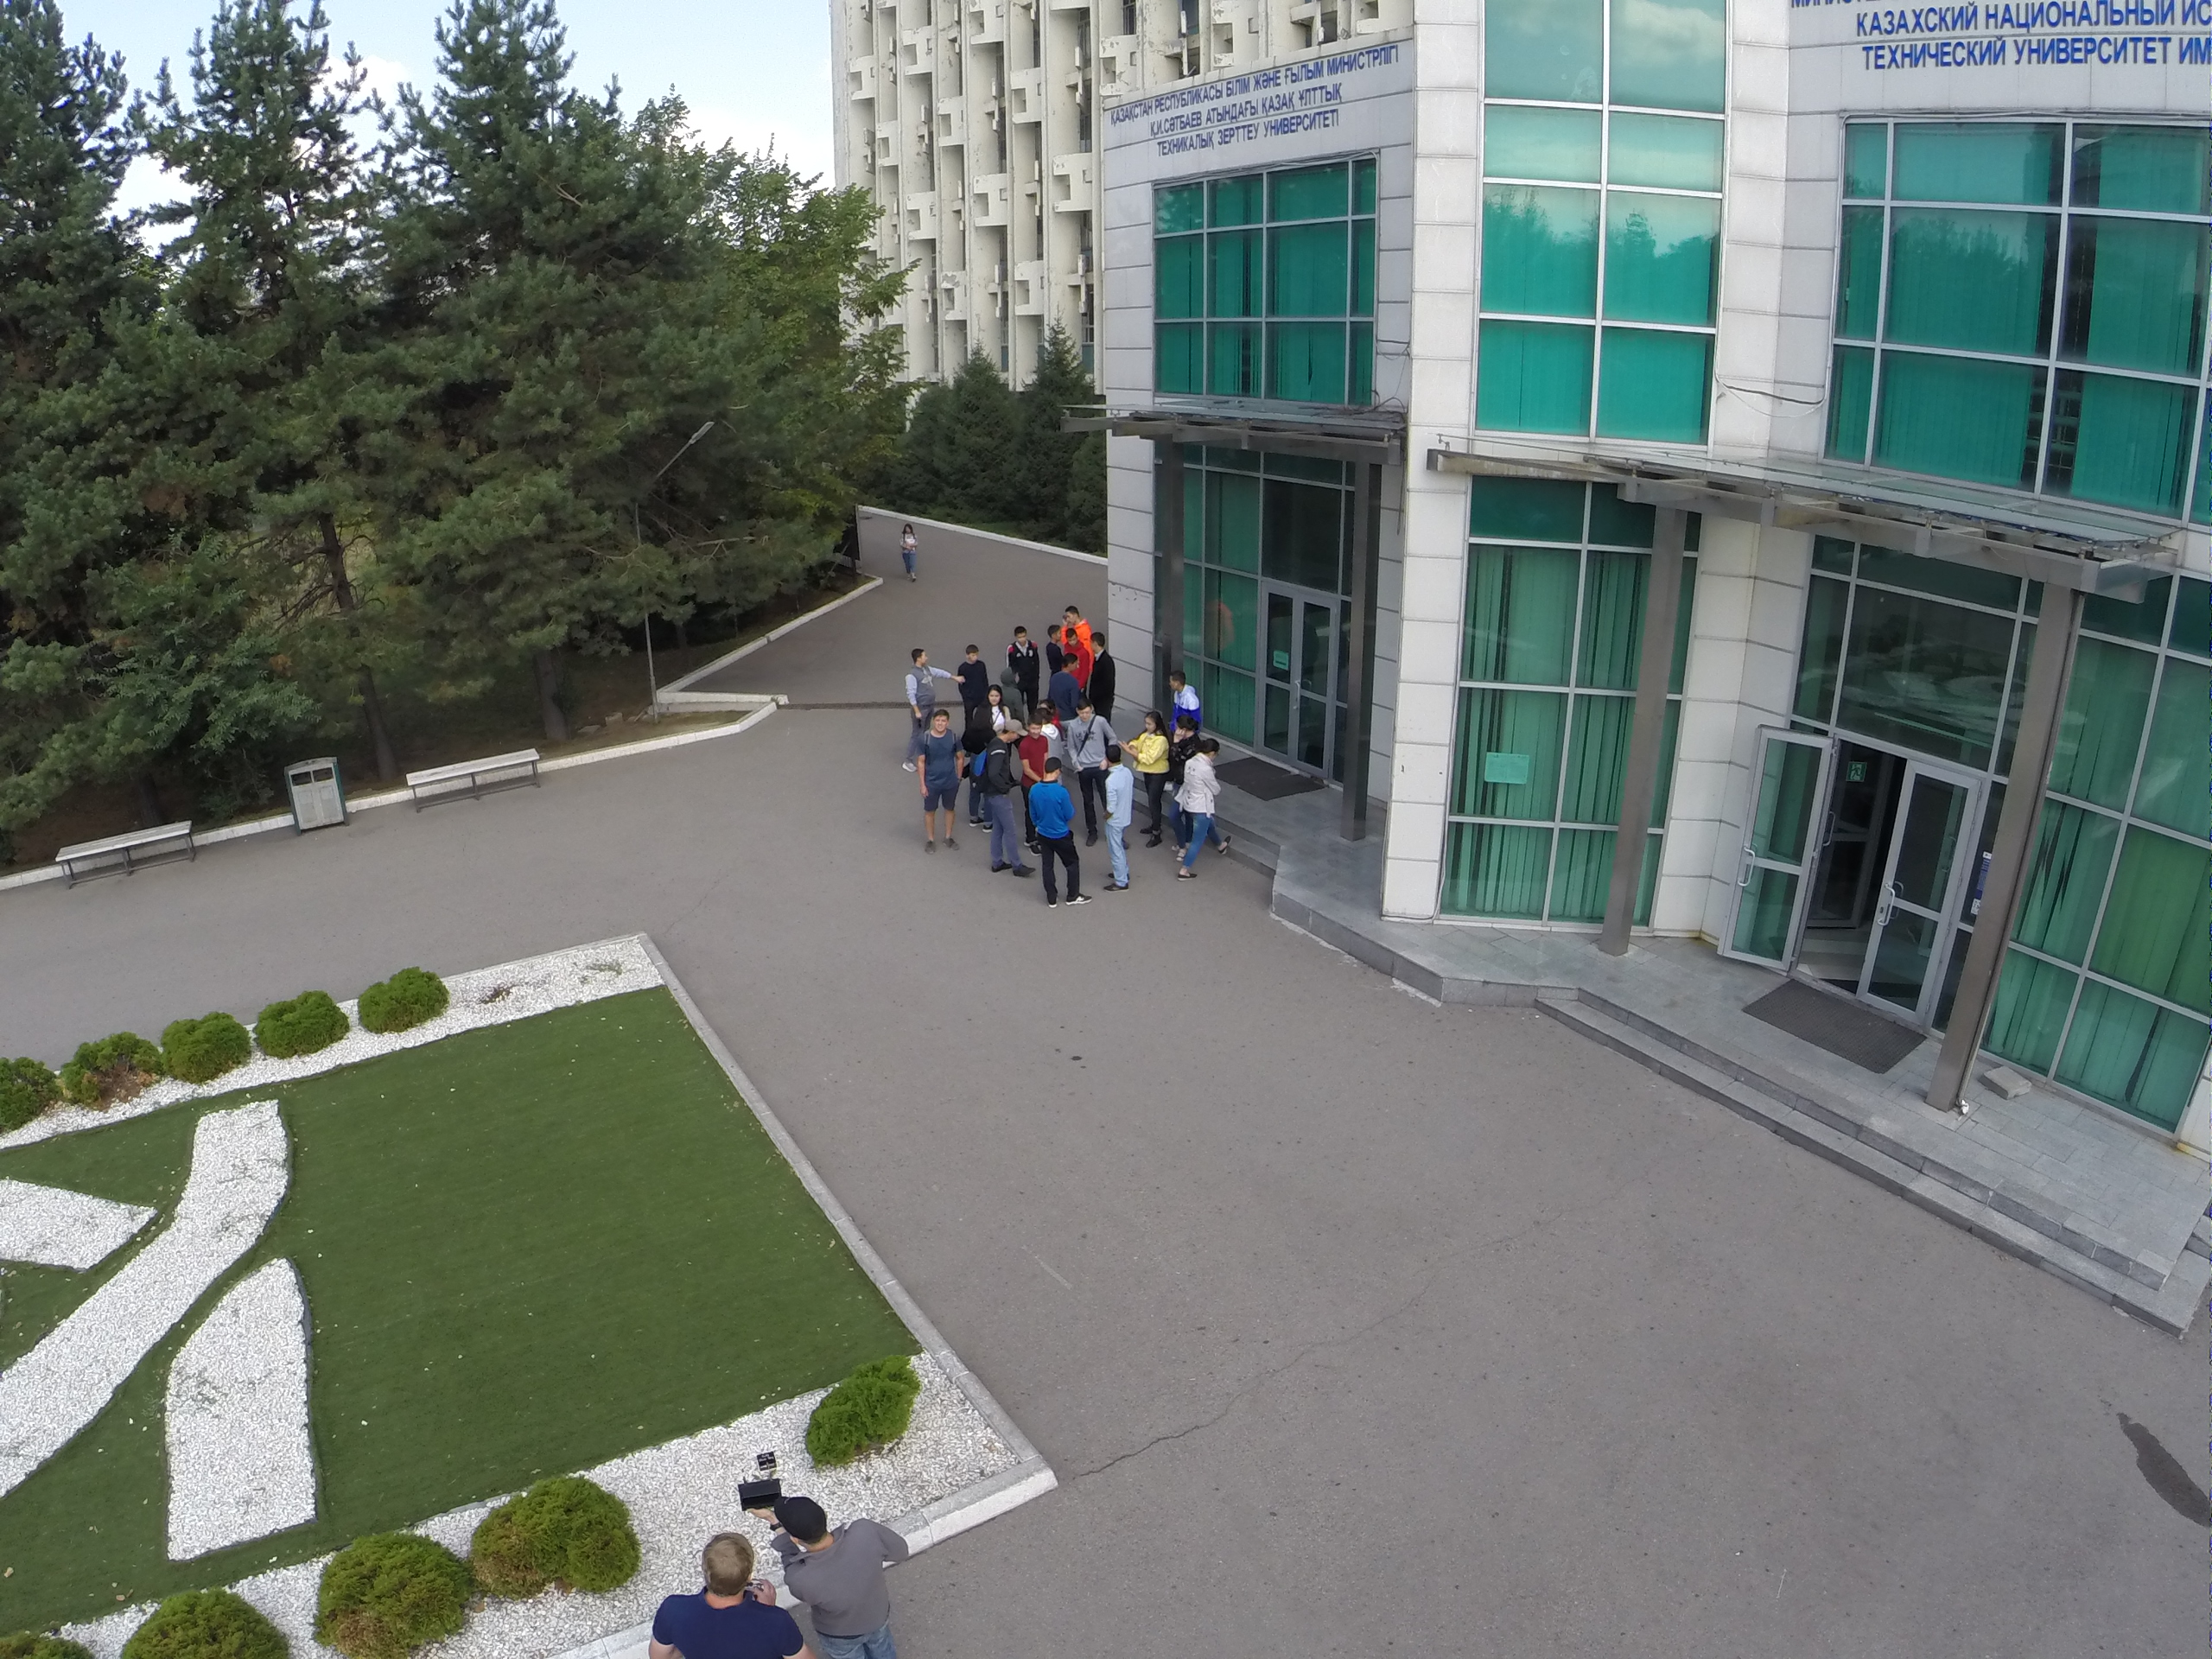person: (980, 721, 1039, 879), (1033, 760, 1091, 911), (915, 709, 966, 855), (1184, 735, 1235, 879), (1074, 699, 1117, 846), (1098, 747, 1135, 895), (1131, 709, 1168, 852), (909, 647, 928, 775), (1011, 627, 1041, 699), (1088, 630, 1116, 705), (1166, 670, 1205, 715), (897, 520, 921, 582), (957, 643, 973, 702), (983, 685, 1004, 730), (1046, 624, 1060, 671)
